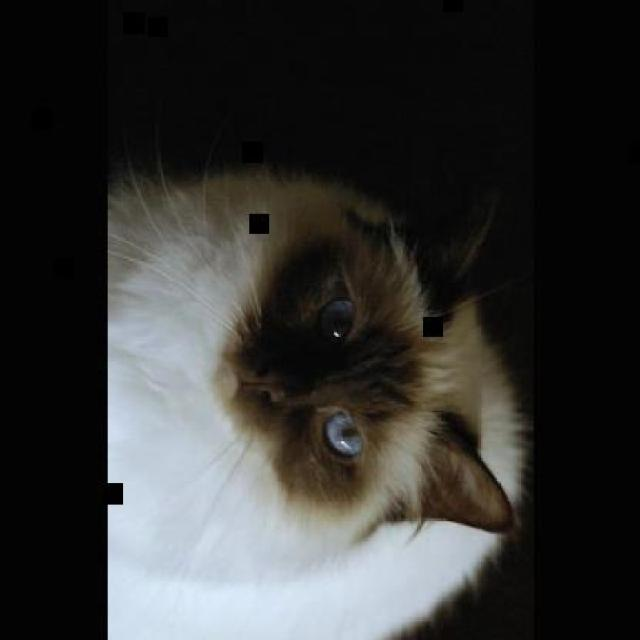unauthorized: (106, 154, 531, 638)
